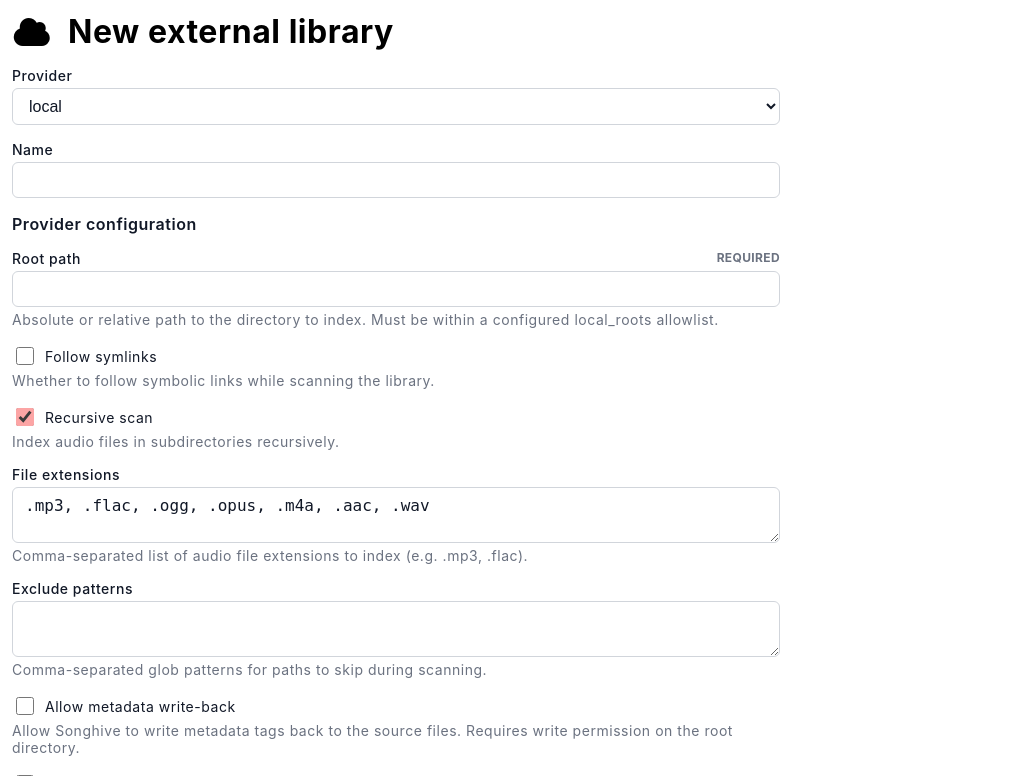
Test: ExternalLibraryEditView › falls back to raw JSON config when the provider has no template
Select "custom" in the dropdown labelled "Provider" at coordinates (396, 106), box [12,88,780,125]
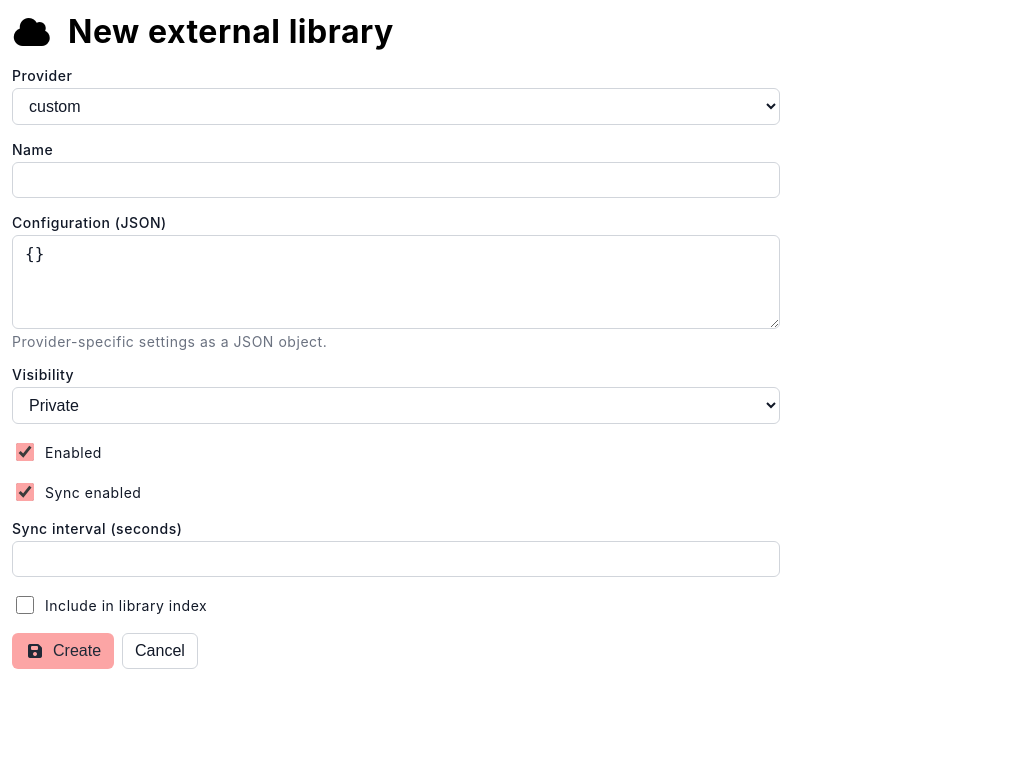
Check: the text "Configuration (JSON)" is shown, box [12,214,167,231]
